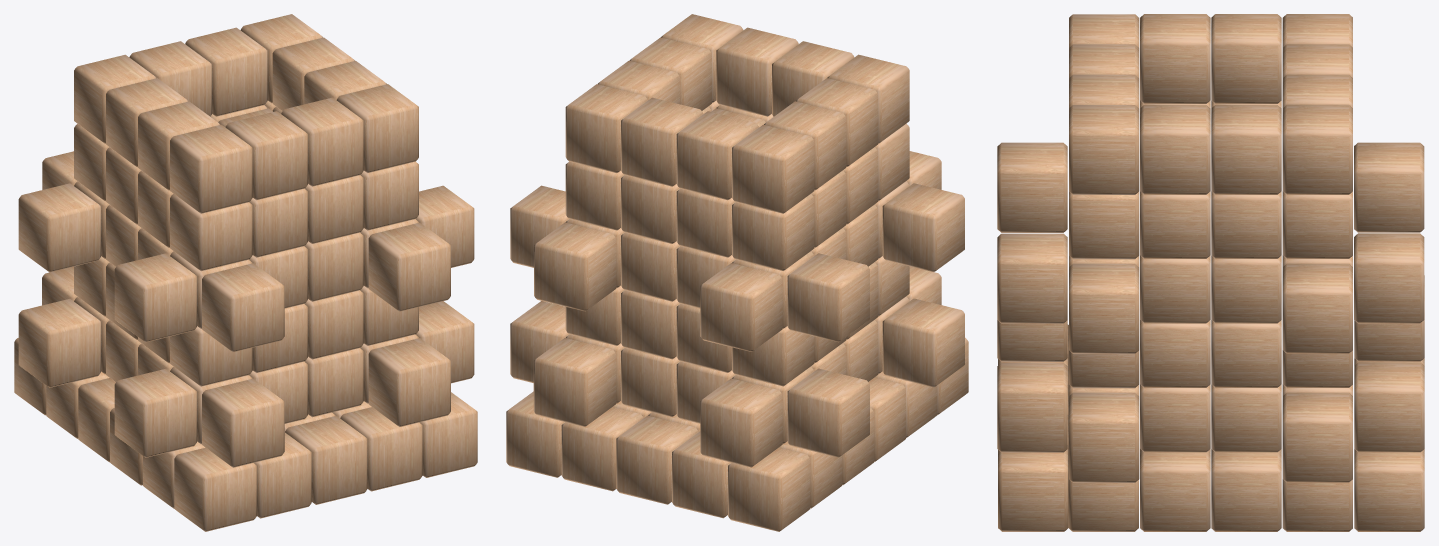
File: level_107.fbx
3 views of the same model, side by side, from view 1: azimuth 30°, elevation 25°; view 2: azimuth 150°, elevation 25°; view 3: azimuth 270°, elevation 25° (orthographic). The views are drawn at different scales.
Parts seen in each view (by area): view 1: Cube.049, Cube.119, Cube.126, Cube.122, Cube.123, Cube.124, Cube.120, Cube.121, Cube.125, Cube.033, Cube.047, Cube.031 (+47 smaller); view 2: Cube.115, Cube.121, Cube.118, Cube.022, Cube.119, Cube.120, Cube.116, Cube.117, Cube.122, Cube.024, Cube.020, Cube.001 (+47 smaller); view 3: Cube.116, Cube.075, Cube.111, Cube.124, Cube.101, Cube.118, Cube.112, Cube.019, Cube.113, Cube.125, Cube.126, Cube.114 (+30 smaller).
Part boxes in pixels (<box>): Cube.049: <box>170,124,252,213</box>; Cube.119: <box>18,299,100,387</box>; Cube.126: <box>368,222,450,311</box>; Cube.122: <box>114,253,196,342</box>; Cube.123: <box>202,378,284,467</box>; Cube.124: <box>202,263,284,352</box>; Cube.120: <box>18,183,100,272</box>; Cube.121: <box>114,369,196,457</box>; Cube.125: <box>368,338,450,426</box>; Cube.033: <box>174,447,256,531</box>; Cube.047: <box>170,194,252,271</box>; Cube.031: <box>285,415,367,504</box>; Cube.115: <box>533,338,616,426</box>; Cube.121: <box>882,298,964,387</box>; Cube.118: <box>700,263,782,351</box>; Cube.022: <box>732,124,814,213</box>; Cube.119: <box>787,368,869,457</box>; Cube.120: <box>787,253,869,342</box>; Cube.116: <box>534,222,616,311</box>; Cube.117: <box>700,378,782,467</box>; Cube.122: <box>882,183,964,271</box>; Cube.024: <box>728,447,810,531</box>; Cube.020: <box>732,194,814,270</box>; Cube.001: <box>616,415,698,504</box>; Cube.116: <box>1354,233,1424,323</box>; Cube.075: <box>1211,104,1281,194</box>; Cube.111: <box>1282,392,1352,482</box>; Cube.124: <box>997,142,1067,232</box>; Cube.101: <box>1140,104,1210,194</box>; Cube.118: <box>1354,142,1424,232</box>; Cube.112: <box>1282,263,1352,353</box>; Cube.019: <box>1282,104,1352,194</box>; Cube.113: <box>1069,392,1139,482</box>; Cube.125: <box>997,362,1067,452</box>; Cube.126: <box>997,233,1067,323</box>; Cube.114: <box>1069,263,1139,353</box>.
Bounding box in the file's own units: 12.17 × 12.09 × 12.13.
